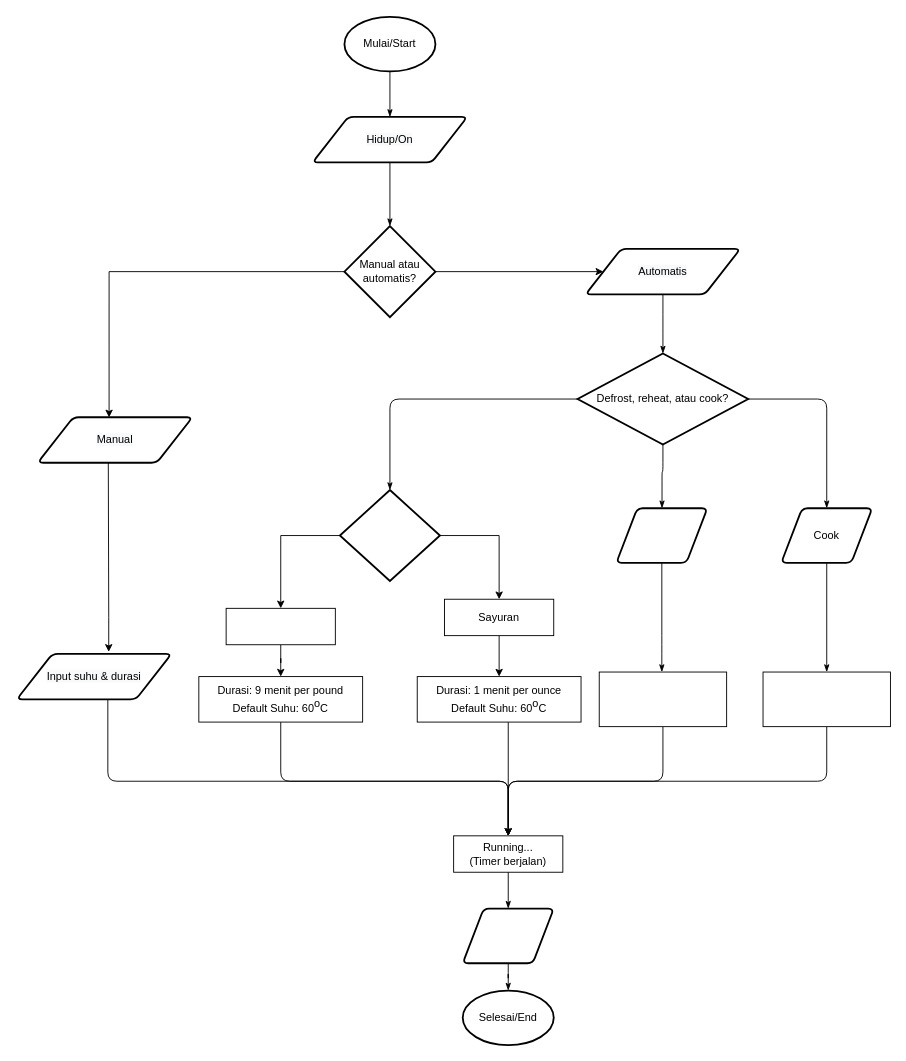
This 906x1061 diagram has some shape labels left out. Here are the shapes that lost their labels. From the top down, the centre of each, then its label:
At (389,535): "Daging atau sayuran?".
At (661,535): "Reheat".
At (280,626): "Daging".
At (662,699): "Default Suhu: 80 o C Default Durasi: 3 menit".
At (826,699): "Default Suhu: 100 o C Default Durasi: 20 menit".
At (507,935): "Mati/Off".
